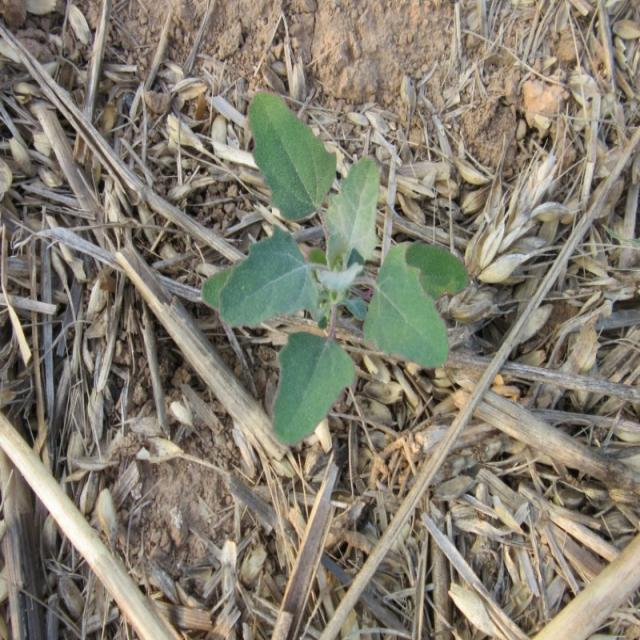ca: (221, 88, 470, 444)
